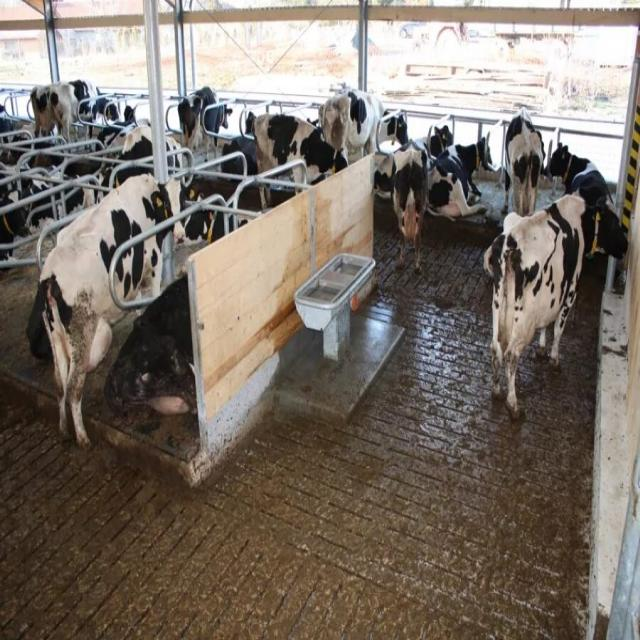cow: (27, 171, 190, 449), (482, 179, 627, 420)
